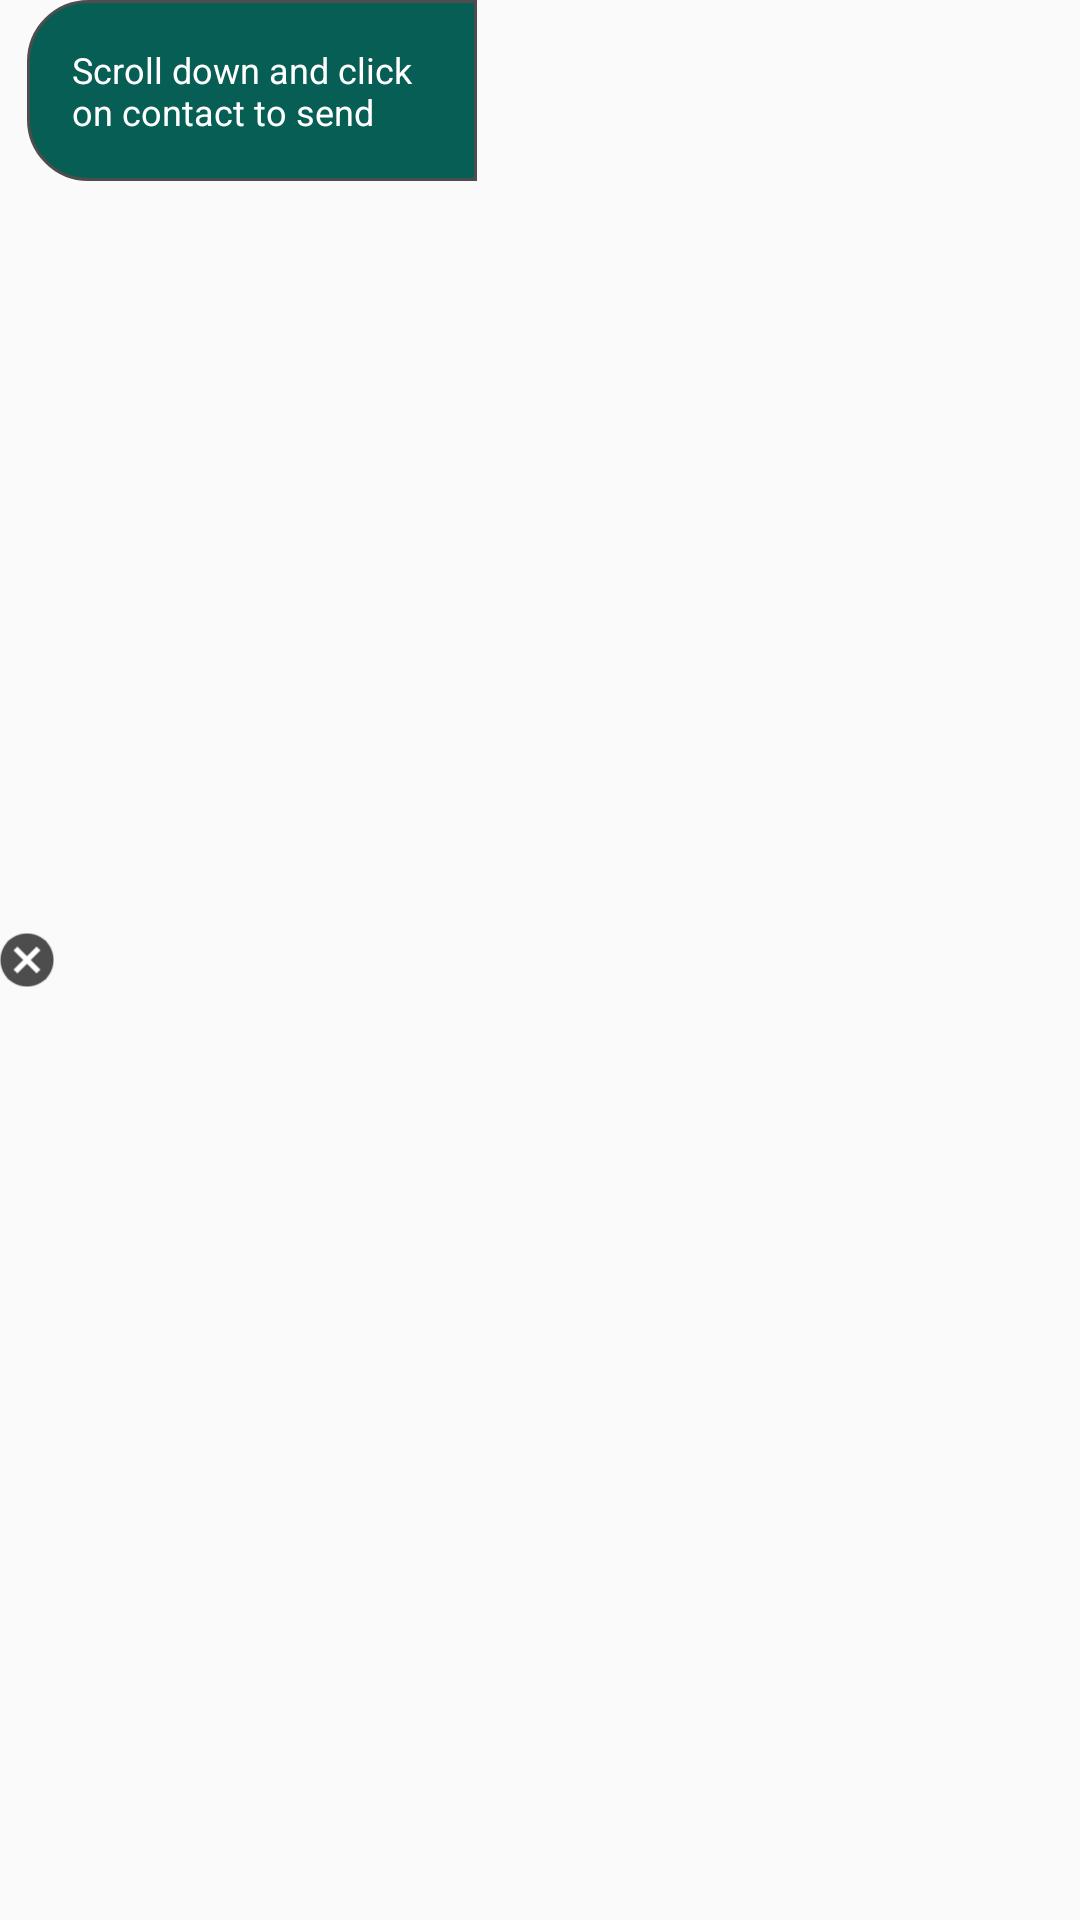

Where to tap for icons on this 1080px x 1920px app screen, as (x=x, y=y):
cancel: (x=27, y=960)
